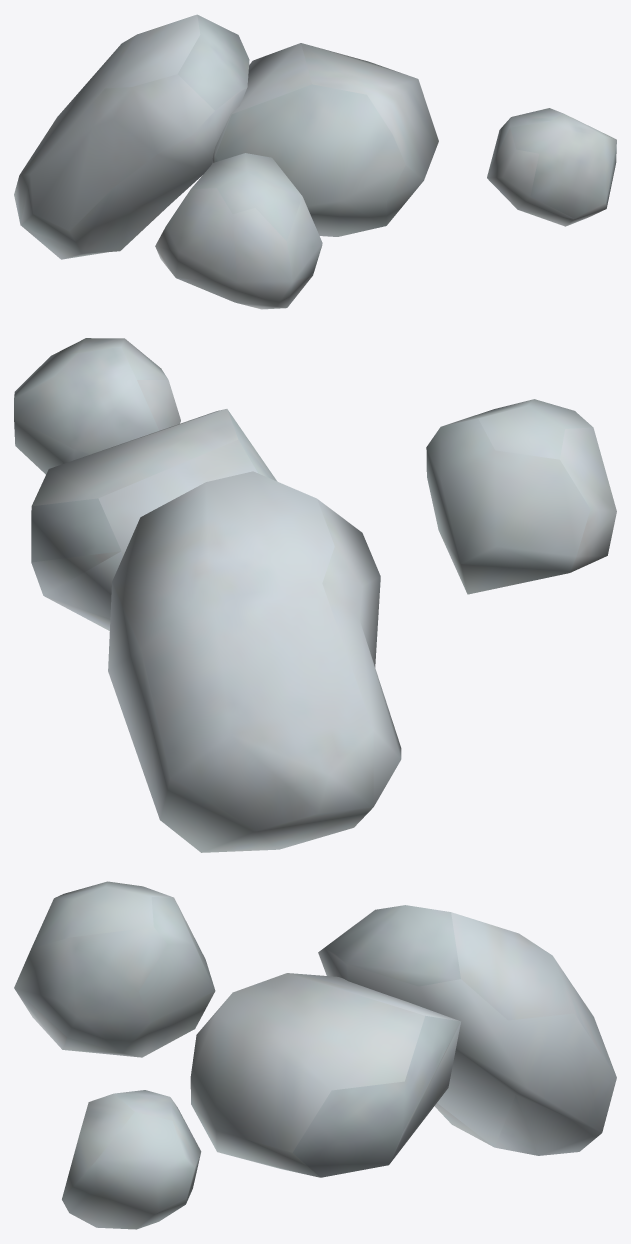
Rendered from P_RockClumpClassic2.obj.
3 views of the same model, one above another, from view 1: azimuth 30°, elevation 25°; view 2: azimuth 150°, elevation 25°; view 3: azimuth 270°, elevation 25° (orthographic). The views are drawn at different scales.
Bounding box in the file's own units: 1.44 × 0.7575 × 1.47.
